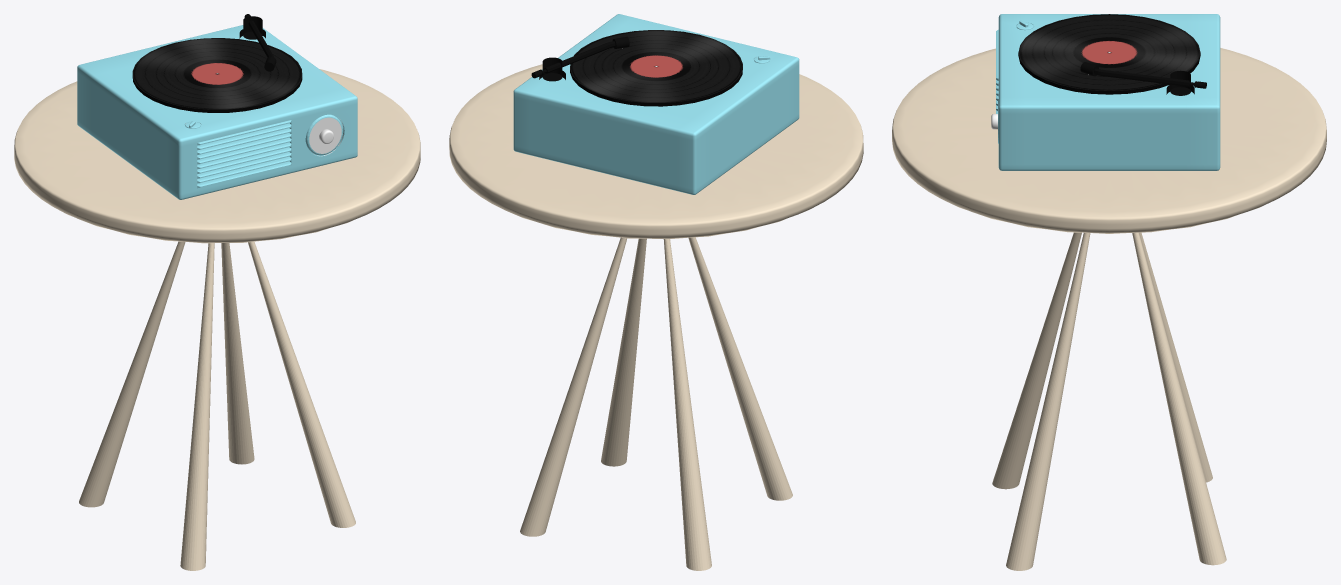
The model's file is record_player.glb.
3 views of the same model, side by side, from view 1: azimuth 30°, elevation 25°; view 2: azimuth 150°, elevation 25°; view 3: azimuth 270°, elevation 25° (orthographic). The views are drawn at different scales.
Visible parts, largest first — view 1: Cylinder.009, Cube, Cylinder.011, Cylinder.007, Cylinder.001; view 2: Cylinder.009, Cube, Cylinder.011, Cylinder.007, Cylinder.001, Cylinder.004; view 3: Cylinder.009, Cube, Cylinder.011, Cylinder.007, Cylinder.004, Cylinder.001.
Part boxes in pixels (box(x1,y1,x2,y2)): Cylinder.009: box(14, 69, 420, 243); Cube: box(77, 25, 357, 199); Cylinder.011: box(79, 241, 355, 570); Cylinder.007: box(132, 38, 302, 109); Cylinder.001: box(132, 75, 302, 112); Cylinder.009: box(449, 64, 863, 239); Cube: box(513, 14, 799, 194); Cylinder.011: box(520, 237, 792, 570); Cylinder.007: box(570, 30, 742, 102); Cylinder.001: box(570, 67, 742, 106); Cylinder.004: box(542, 36, 629, 73); Cylinder.009: box(892, 48, 1326, 233); Cube: box(996, 14, 1220, 170); Cylinder.011: box(992, 232, 1226, 570); Cylinder.007: box(1018, 14, 1200, 90); Cylinder.004: box(1080, 62, 1194, 86); Cylinder.001: box(1018, 53, 1200, 94).
Size of the model in its own units: 3.93 by 4.81 by 3.93.
Materials: 9 (2 with a texture image).
